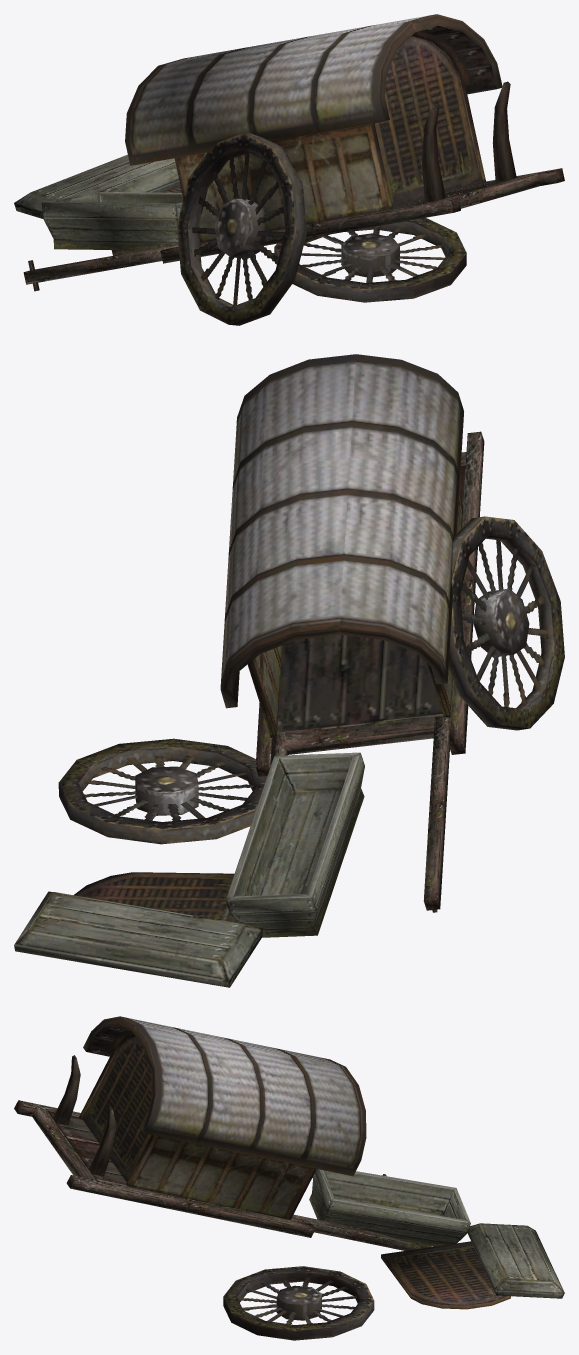
Rendered from cj_graveyard_wagon01.glb.
3 renders of one model, top to bottom at view 1: azimuth 30°, elevation 25°; view 2: azimuth 150°, elevation 25°; view 3: azimuth 270°, elevation 25°, orthographic. The views are drawn at different scales.
Visible parts, largest first — view 1: cj_graveyard_wagon01 (×2); view 2: cj_graveyard_wagon01 (×2); view 3: cj_graveyard_wagon01 (×2).
Part boxes in pixels (bbox=[...]): cj_graveyard_wagon01 (×2): bbox=[14, 14, 564, 325]; cj_graveyard_wagon01 (×2): bbox=[14, 354, 564, 987]; cj_graveyard_wagon01 (×2): bbox=[14, 1016, 564, 1340].
Size of the model in its own units: 5.05 by 4.51 by 8.17.
3 materials, 3 textured.
